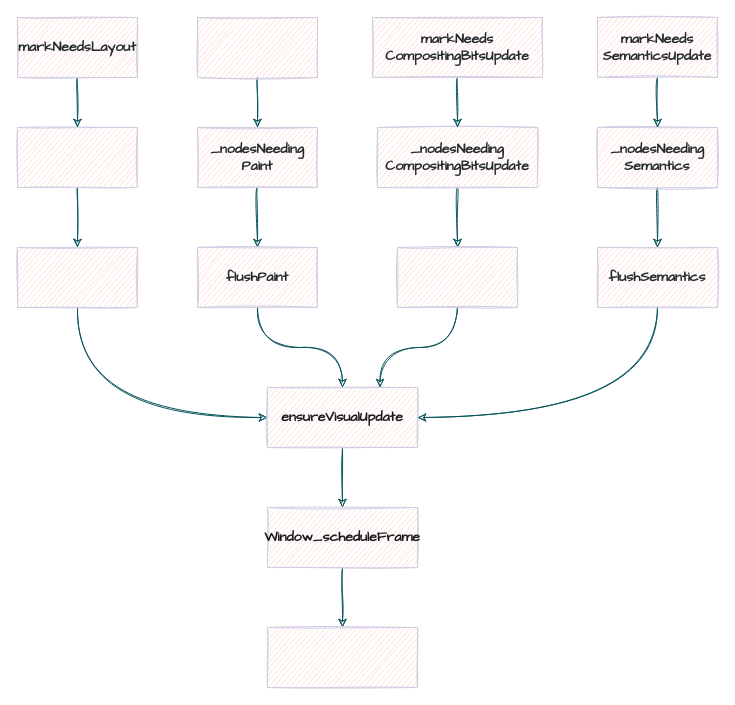
Image size: 735x705. Some labels were removed from this diagram. Each missing label, with the centre of its shape:
"_nodesNeeding Layout" belongs at point 77,157.
"flush CompositingBits" belongs at point 457,277.
"flushLayout" belongs at point 77,277.
"markNeedsPaint" belongs at point 257,47.
"更新UI" belongs at point 342,657.
